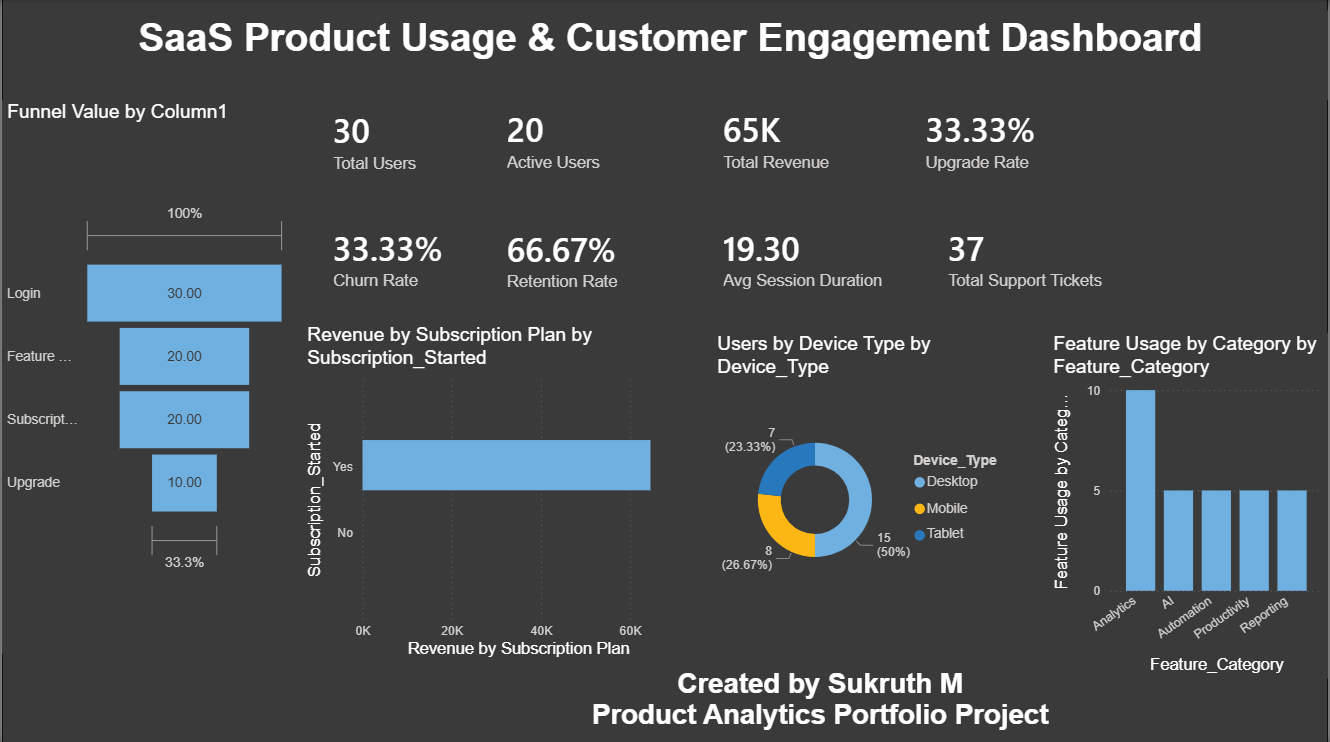

Layout of this report page (visuals, bound fields, positions):
{"tool":"powerbi","page":{"name":"Page 1","canvas":[1280,720],"ordinal":0},"visuals":[{"type":"textbox","box":[9.6,11,1270.7,86.4],"z":0},{"type":"cardVisual","fields":{"Data":["Sheet1.Total Users"]},"box":[289.8,78.3,167.5,114.9],"z":1000},{"type":"cardVisual","fields":{"Data":["Sheet1.Active Users"]},"box":[457.3,77,187.1,114.9],"z":2000},{"type":"cardVisual","fields":{"Data":["Sheet1.Total Revenue"]},"box":[666.4,77,167.5,114.9],"z":3000},{"type":"cardVisual","fields":{"Data":["Sheet1.Upgrade Rate"]},"box":[860.9,77,173.6,114.9],"z":4000},{"type":"cardVisual","fields":{"Data":["Sheet1.Churn Rate"]},"box":[289.8,192,167.5,113.7],"z":5000},{"type":"cardVisual","fields":{"Data":["Sheet1.Retention Rate"]},"box":[457.3,193.2,187.1,113.7],"z":6000},{"type":"cardVisual","fields":{"Data":["Sheet1.Avg Session Duration"]},"box":[666.4,192,216.4,113.7],"z":7000},{"type":"cardVisual","fields":{"Data":["Sheet1.Total Support Tickets"]},"box":[882.9,192,211.6,113.7],"z":8000},{"type":"funnel","fields":{"Y":["Funnel_Stages.Funnel Value"],"Category":["Funnel_Stages.Column1"]},"box":[0,97.8,280,534.4],"z":9000},{"type":"clusteredBarChart","fields":{"Category":["Sheet1.Subscription_Started"],"Y":["Sum(Sheet1.Monthly_Revenue)"]},"box":[299.2,313.7,346.2,300.4],"z":9001},{"type":"donutChart","fields":{"Category":["Sheet1.Device_Type"],"Y":["Count(Sheet1.User_ID)"]},"box":[684.8,321.6,297.1,281.3],"z":9002},{"type":"clusteredColumnChart","fields":{"Category":["Sheet1.Feature_Category"],"Y":["CountNonNull(Sheet1.User_ID)"]},"box":[1010.1,321.6,270.2,333.8],"z":9003},{"type":"textbox","box":[559.8,640.6,459.7,74.8],"z":9004}]}

Visuals, with their boxes in screenshot pixels (x1, y1, x2, y2), scaled from the page's 1280x720 canvas onto the 1330x742 screenshot:
textbox: (x1=10, y1=11, x2=1329, y2=100)
cardVisual - Sheet1.Total Users: (x1=301, y1=81, x2=475, y2=199)
cardVisual - Sheet1.Active Users: (x1=475, y1=79, x2=670, y2=198)
cardVisual - Sheet1.Total Revenue: (x1=692, y1=79, x2=866, y2=198)
cardVisual - Sheet1.Upgrade Rate: (x1=895, y1=79, x2=1075, y2=198)
cardVisual - Sheet1.Churn Rate: (x1=301, y1=198, x2=475, y2=315)
cardVisual - Sheet1.Retention Rate: (x1=475, y1=199, x2=670, y2=316)
cardVisual - Sheet1.Avg Session Duration: (x1=692, y1=198, x2=917, y2=315)
cardVisual - Sheet1.Total Support Tickets: (x1=917, y1=198, x2=1137, y2=315)
funnel - Funnel_Stages.Funnel Value x Funnel_Stages.Column1: (x1=0, y1=101, x2=291, y2=652)
clusteredBarChart - Sheet1.Subscription_Started x Sum(Sheet1.Monthly_Revenue): (x1=311, y1=323, x2=671, y2=633)
donutChart - Sheet1.Device_Type x Count(Sheet1.User_ID): (x1=712, y1=331, x2=1020, y2=621)
clusteredColumnChart - Sheet1.Feature_Category x CountNonNull(Sheet1.User_ID): (x1=1050, y1=331, x2=1329, y2=675)
textbox: (x1=582, y1=660, x2=1059, y2=737)
